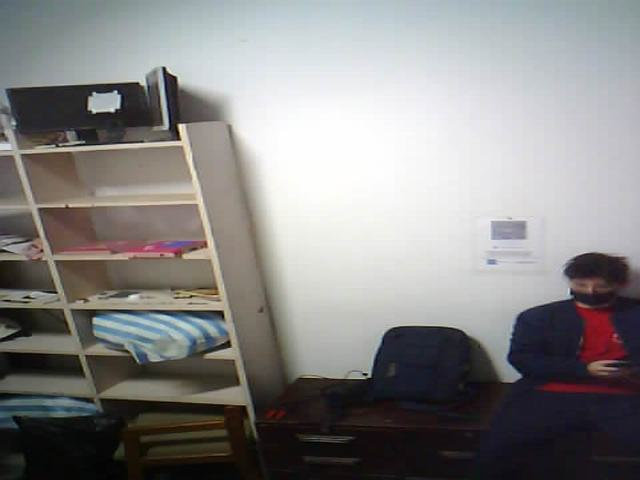person: (483, 234, 640, 480)
